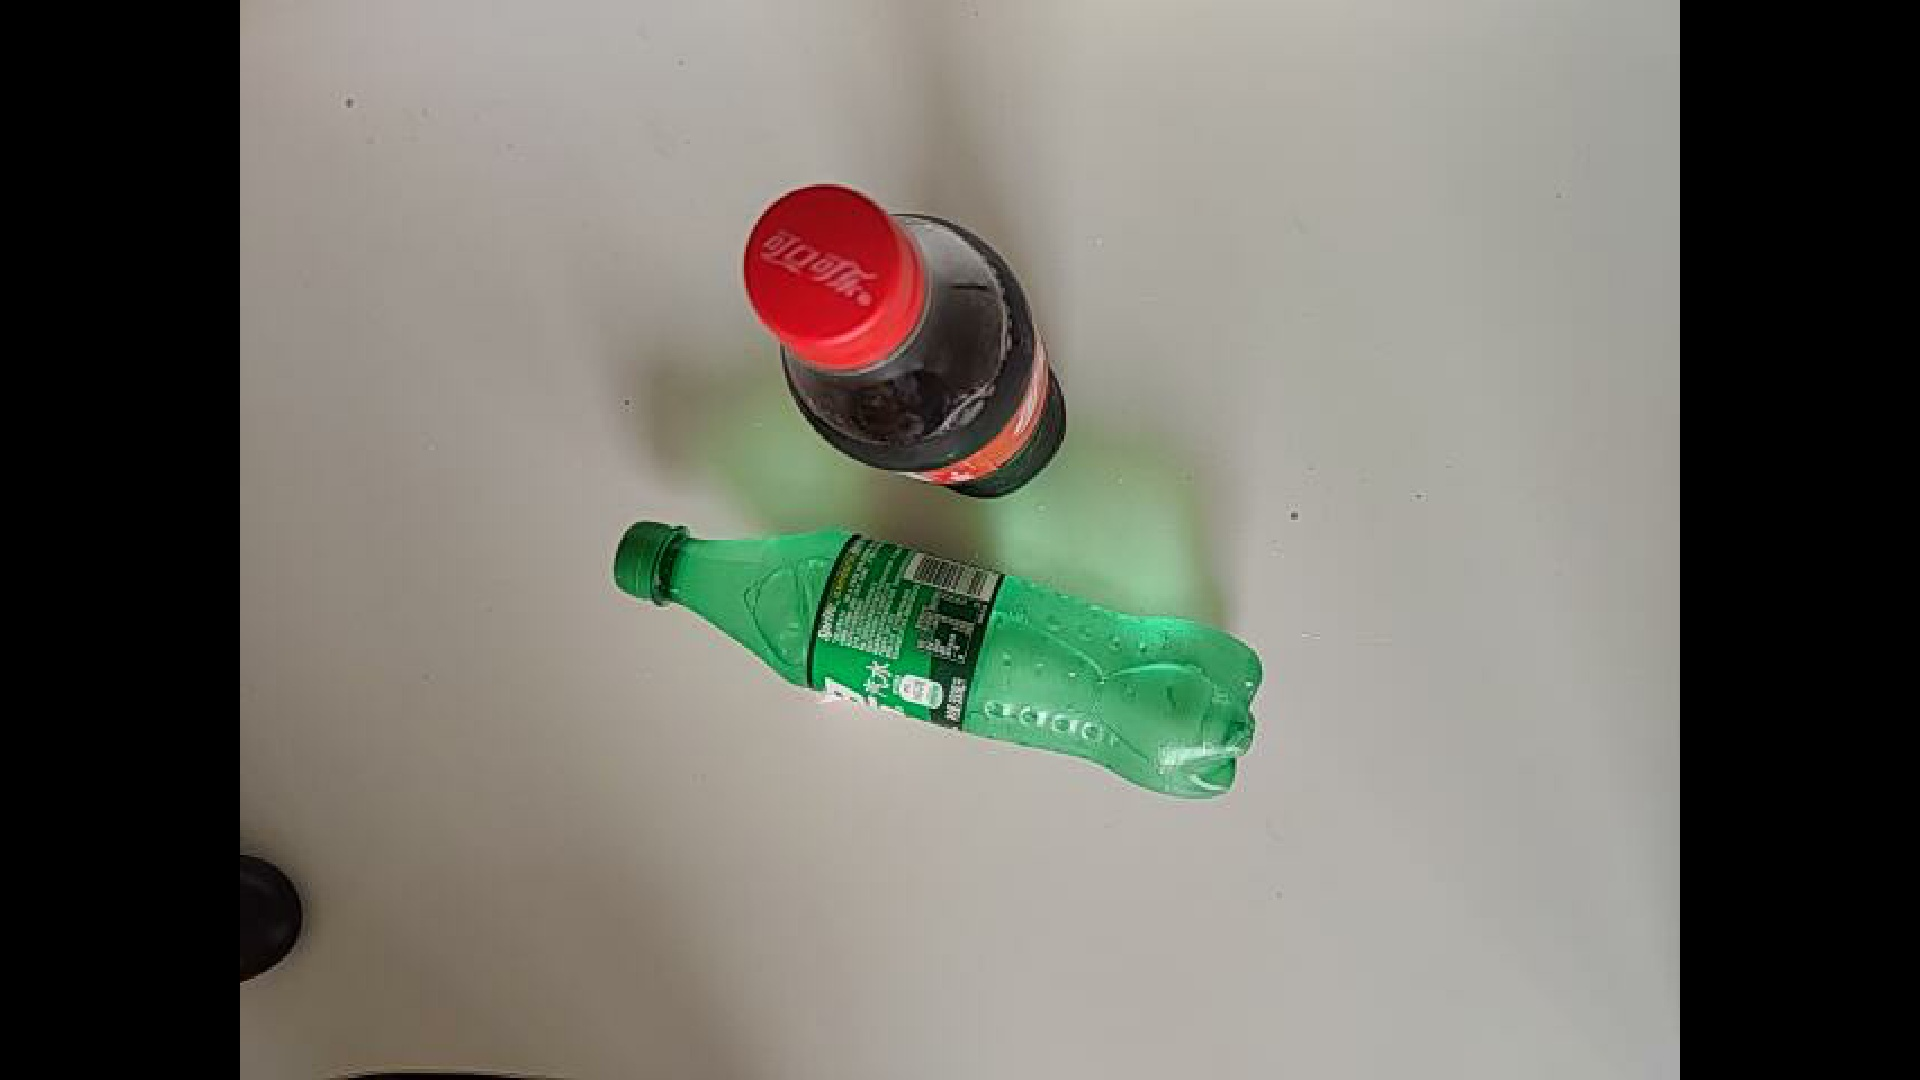cola: (742, 182, 1068, 501)
sprite: (591, 543, 1317, 816)
